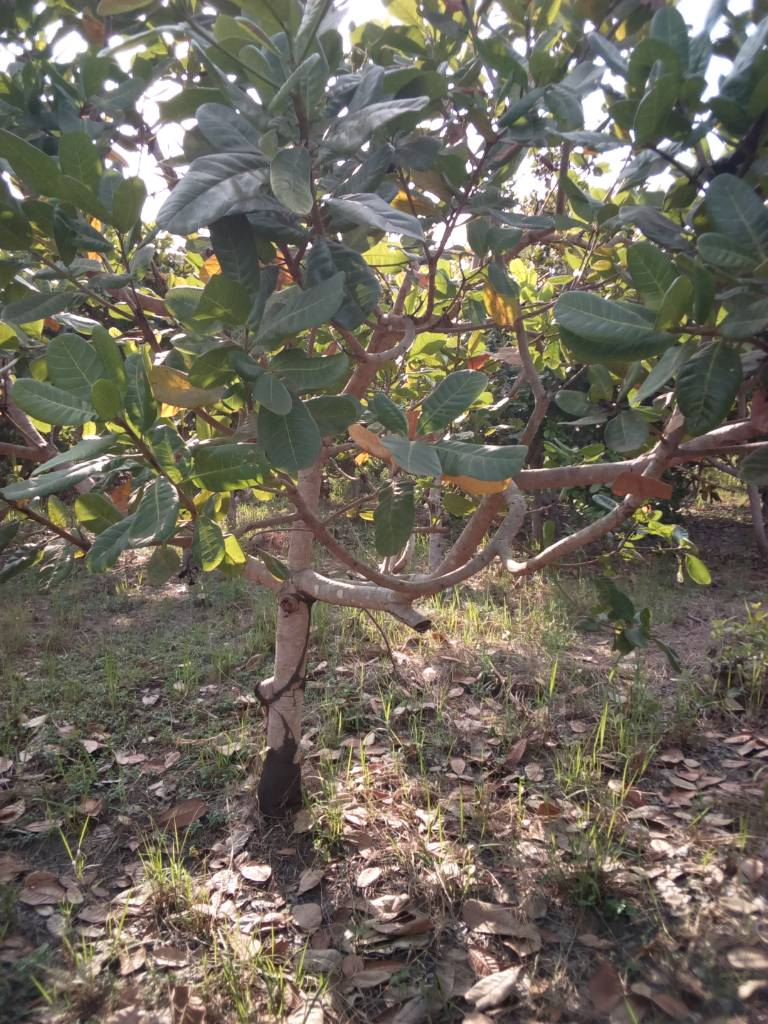Termites: (255, 591, 308, 814)
